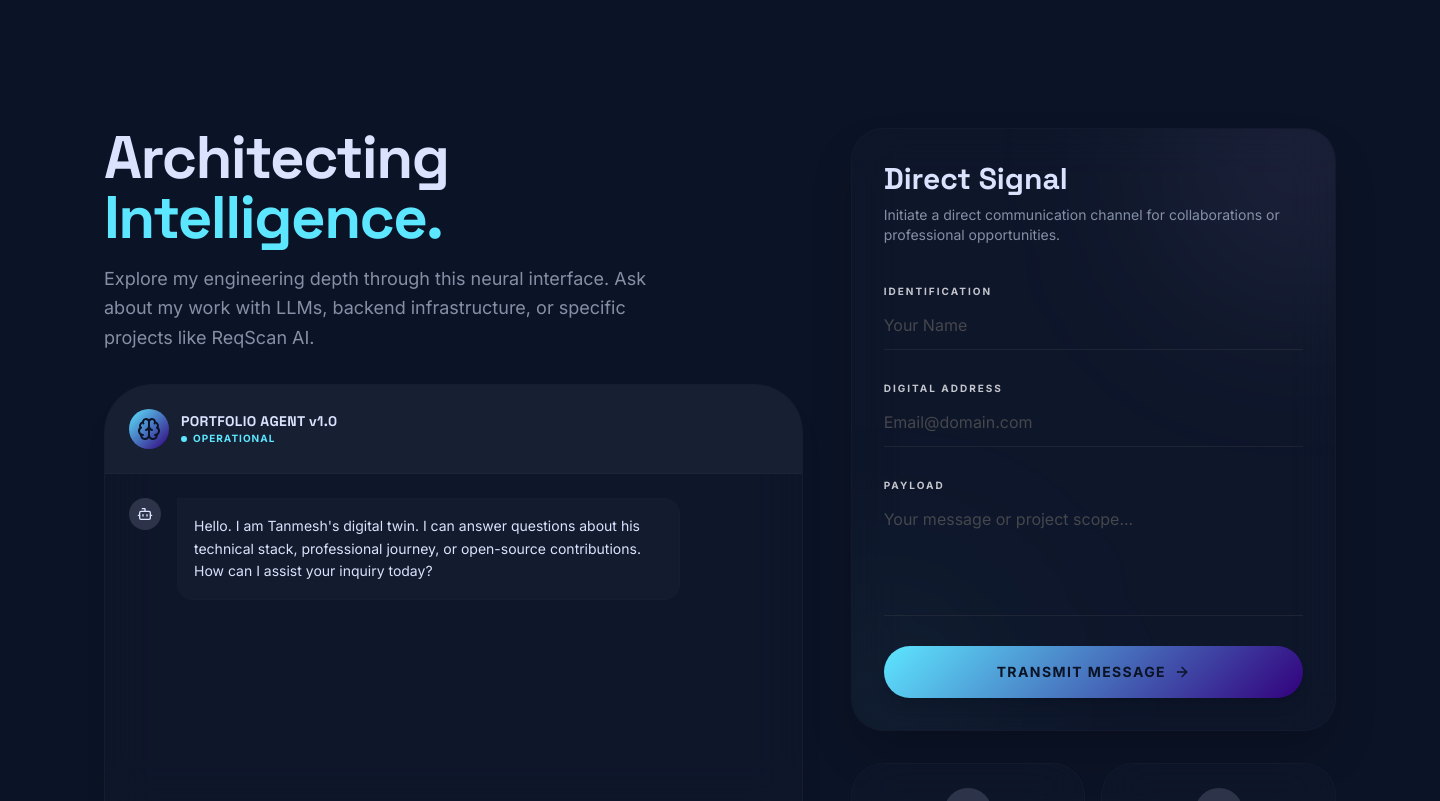
Test: AssistantScreen › shows a validation error when the contact form is submitted empty
Click the button "Transmit Message" at (1093, 672), box [884, 646, 1303, 698]
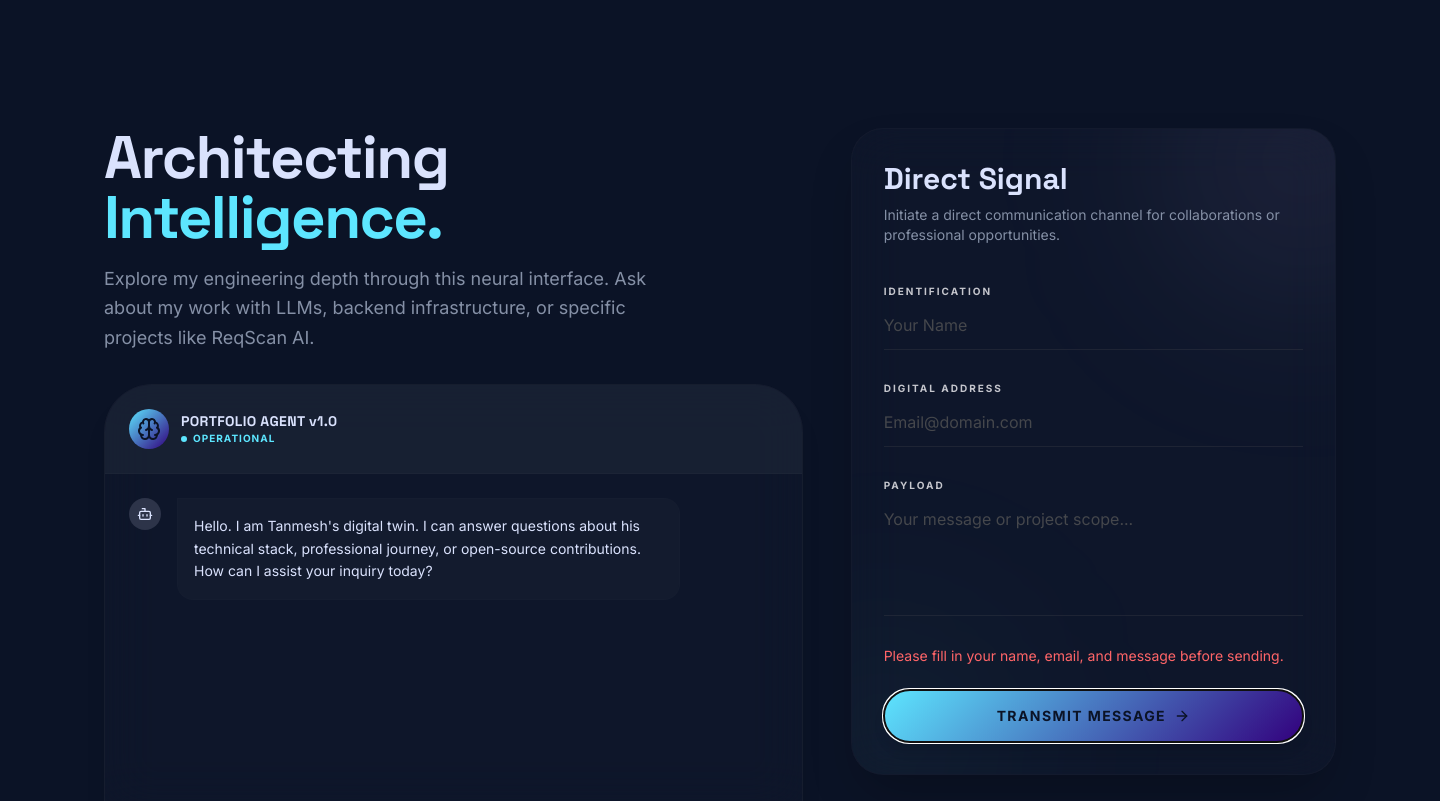
Now the text "Please fill in your name, email, and message before sending." is shown, box [884, 646, 1303, 666]
